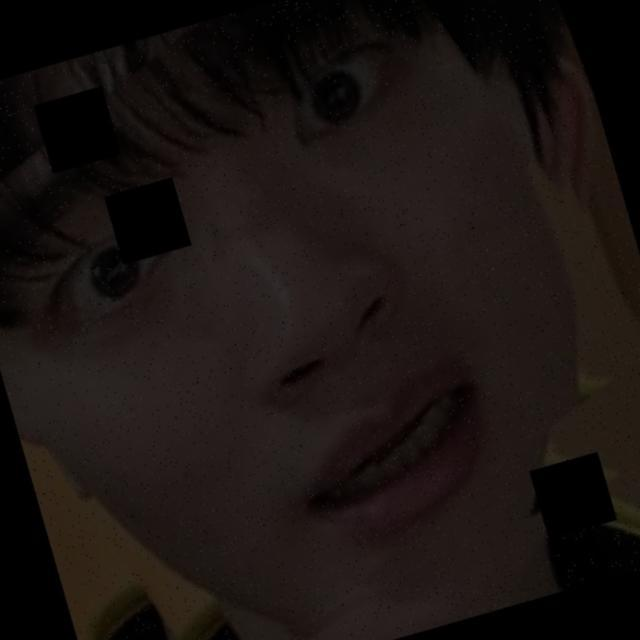Surprised: (10, 42, 595, 578)
